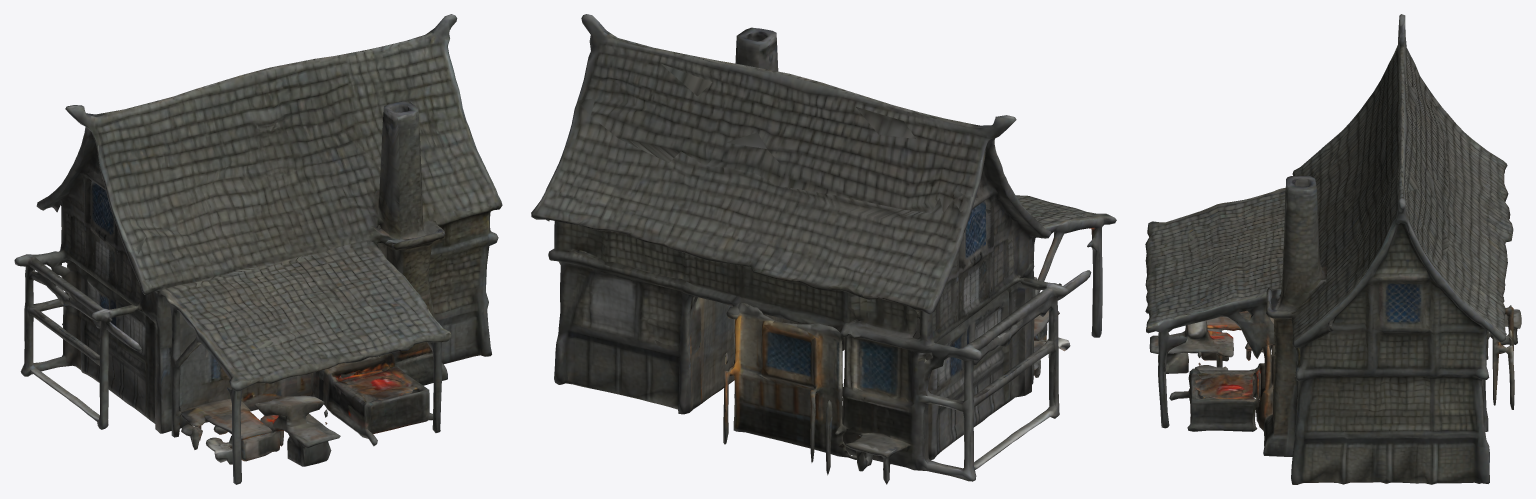
The model's file is Blacksmith.fbx.
3 views of the same model, side by side, from view 1: azimuth 30°, elevation 25°; view 2: azimuth 150°, elevation 25°; view 3: azimuth 270°, elevation 25° (orthographic). The views are drawn at different scales.
Visible parts, largest first — view 1: Mesh1_Mesh1.036; view 2: Mesh1_Mesh1.036; view 3: Mesh1_Mesh1.036.
Boxes of the visible parts, x1,y1,x2,y2 form: Mesh1_Mesh1.036: [14, 14, 502, 484]; Mesh1_Mesh1.036: [531, 14, 1116, 484]; Mesh1_Mesh1.036: [1145, 14, 1521, 484].
Size of the model in its own units: 204 by 150 by 168.
